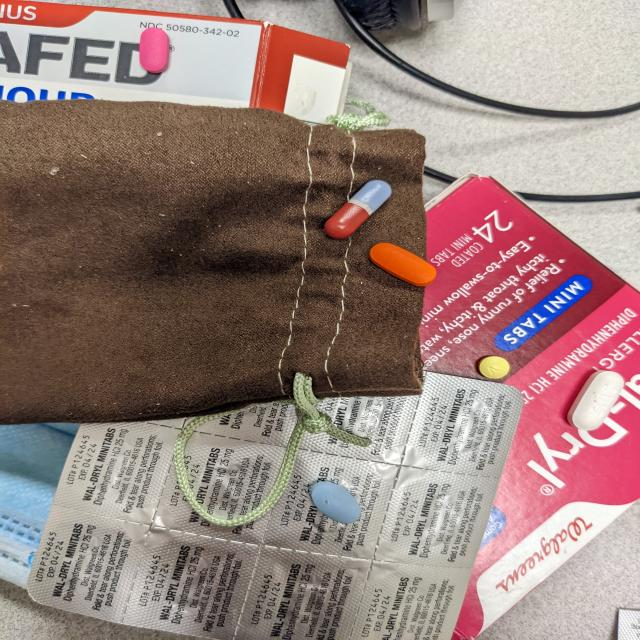non-organic waste: (323, 179, 393, 239), (566, 370, 625, 432), (368, 242, 438, 288), (308, 480, 362, 524), (138, 27, 171, 74), (478, 355, 510, 380)
